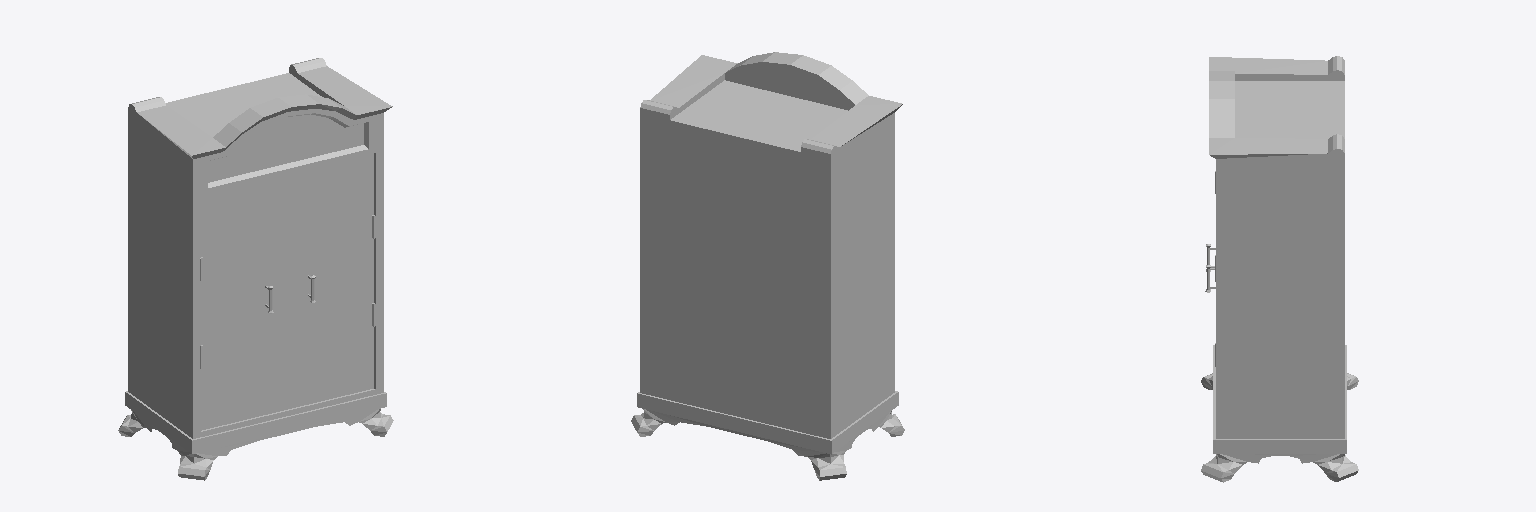
Rendered from cabinet.obj.
3 views of the same model, side by side, from view 1: azimuth 30°, elevation 25°; view 2: azimuth 150°, elevation 25°; view 3: azimuth 270°, elevation 25° (orthographic).
Visible parts, largest first — view 1: polySurface38, polySurface36, polySurface37; view 2: polySurface38; view 3: polySurface38.
Part boxes in pixels (bbox=[...]): polySurface38: bbox=[118, 58, 393, 480]; polySurface36: bbox=[287, 154, 373, 409]; polySurface37: bbox=[201, 175, 286, 430]; polySurface38: bbox=[631, 52, 904, 480]; polySurface38: bbox=[1201, 56, 1358, 482].
Size of the model in its own units: 1.93 by 2.98 by 1.22.